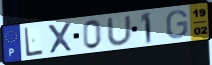0: (81, 18, 103, 50)
1: (139, 12, 153, 45)
G: (165, 9, 189, 40)
L: (23, 26, 45, 58)
U: (106, 14, 134, 47)
X: (46, 21, 75, 55)
